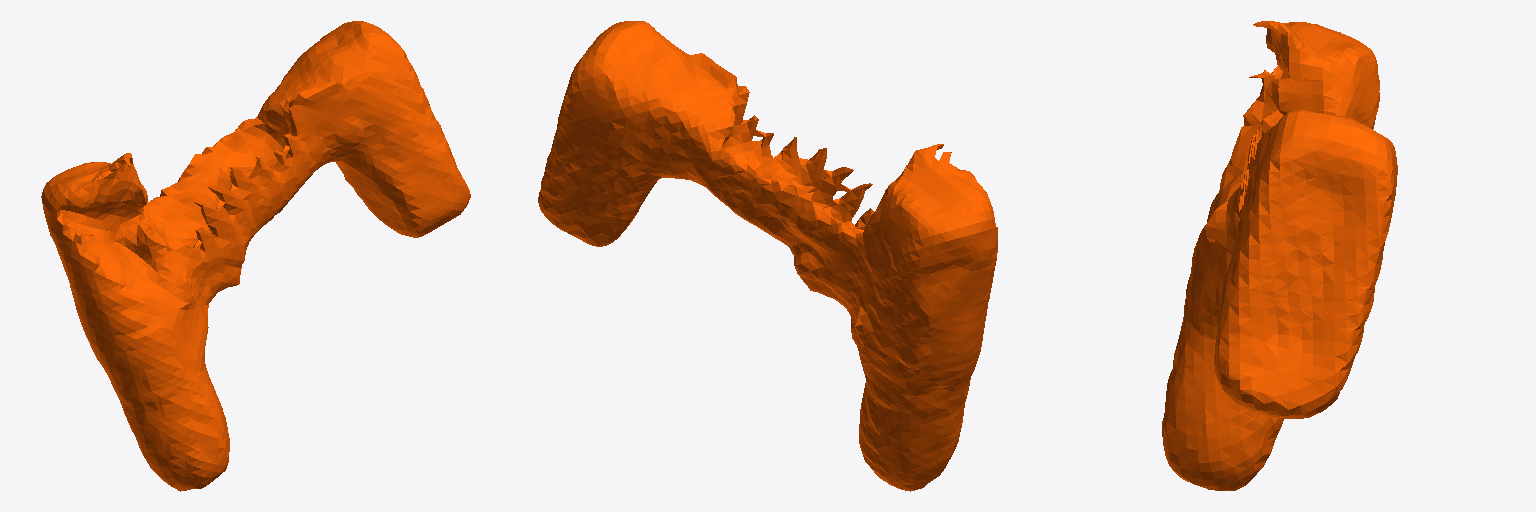
The robot description file, URDF, robot "fd873a597":
<?xml version="1.0" ?>
<robot name="fd873a597">
   <material name="obj_color">
      <color rgba="1.0 0.423529411765 0.0392156862745 1.0"/>
   </material>
   <link name="top">
      <inertial>
         <origin rpy="0.0005129211025954969 0.002058755104327604 0.002468462097830758" xyz="-0.007272708960569055 0.002491737929294326 0.0134106405797918"/>
         <mass value="0.4357793814728182"/>
         <inertia ixx="0.0008631046177898986" ixy="-0.0001152287035073078" ixz="-0.0006377933355659138" iyy="0.002421851274230152" iyz="-0.0001785655366954953" izz="0.001755182412733807"/>
      </inertial>
      <visual>
         <origin rpy="0 0 0" xyz="0 0 0"/>
         <geometry>
            <mesh filename="top_watertight_tiny.stl" scale="1 1 1"/>
         </geometry>
         <material name="obj_color"/>
      </visual>
      <collision>
         <origin rpy="0 0 0" xyz="0 0 0"/>
         <geometry>
            <mesh filename="top_watertight_tiny.obj" scale="1 1 1"/>
         </geometry>
      </collision>
   </link>
   <link name="bottom">
      <inertial>
         <origin rpy="1.633333333199431e-08 1.633333333199431e-08 1.633333333362855e-08" xyz="0.3464080000000008 0.3464080000000008 0.3464080000000008"/>
         <mass value="0.0009800000000000017"/>
         <inertia ixx="1.633333333253906e-08" ixy="5.447480642029219e-19" ixz="5.447480642029219e-19" iyy="1.633333333253906e-08" iyz="5.447480642029219e-19" izz="1.633333333253906e-08"/>
      </inertial>
      <visual>
         <origin rpy="0 0 0" xyz="0 0 0"/>
         <geometry>
            <mesh filename="bottom_watertight_tiny.stl" scale="1 1 1"/>
         </geometry>
         <material name="obj_color"/>
      </visual>
   </link>
   <link name="world"/>
   <joint name="world_to_base" type="fixed">
      <origin xyz="0 0 0"/>
      <axis xyz="0 0 0"/>
      <parent link="world"/>
      <child link="bottom"/>
   </joint>
   <joint name="rotation" type="revolute">
      <origin xyz="0 0 0"/>
      <axis xyz="0 0 -1"/>
      <parent link="bottom"/>
      <child link="top"/>
      <dynamics damping="1.0" friction="1.0"/>
      <limit effort="0.1" velocity="0.1" lower="0" upper="0.001"/>
   </joint>
</robot>

--- Render facts (derived) ---
3 views of the same robot in one strip: view 1: azimuth 30°, elevation 25°; view 2: azimuth 150°, elevation 25°; view 3: azimuth 270°, elevation 25° (orthographic).
Model fd873a597 with 3 links and 2 joints (1 revolute, 1 fixed), rooted at world, posed every joint at zero.
Visible links, largest first — view 1: top; view 2: top; view 3: top.
Boxes of the visible links, x1,y1,x2,y2 form: top: (41, 21, 470, 491); top: (538, 21, 997, 491); top: (1162, 21, 1397, 490).
Bounding box of the posed robot: 0.2061 × 0.0782 × 0.1884 m (x, y, z).
1 mesh visuals loaded from 2 distinct referenced files (1 binary STL); not drawn: 1 (reference not matched to a file when rendering).